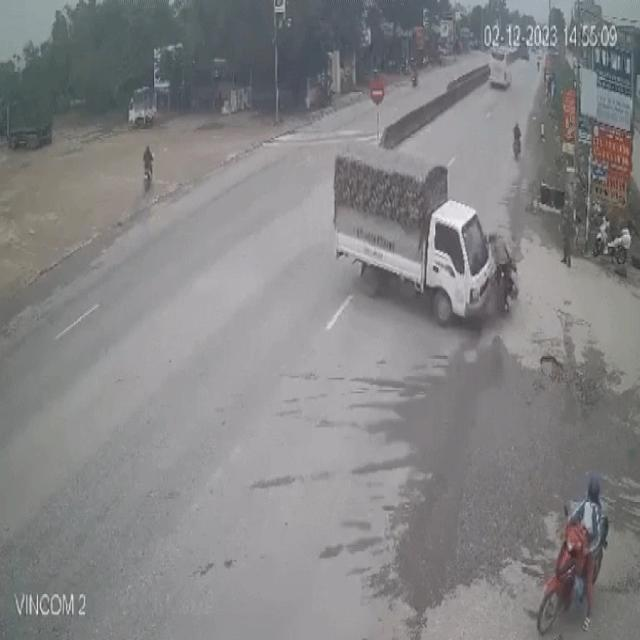multiple_accident: (327, 133, 522, 334)
